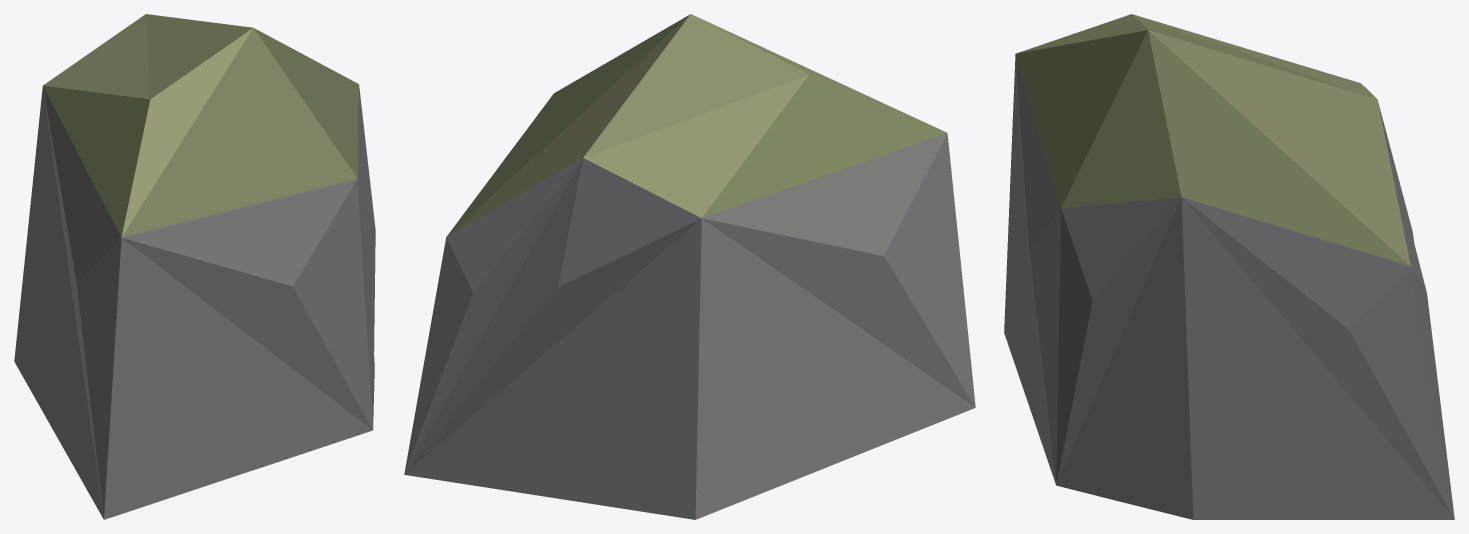
File: cliff_shadow_buttress.glb
3 views of the same model, side by side, from view 1: azimuth 30°, elevation 25°; view 2: azimuth 150°, elevation 25°; view 3: azimuth 270°, elevation 25° (orthographic). The views are drawn at different scales.
Visible parts, largest first — view 1: cliff_shadow_buttress; view 2: cliff_shadow_buttress; view 3: cliff_shadow_buttress.
Part boxes in pixels (bbox=[...]): cliff_shadow_buttress: bbox=[14, 14, 375, 519]; cliff_shadow_buttress: bbox=[404, 14, 975, 519]; cliff_shadow_buttress: bbox=[1004, 14, 1454, 519].
Bounding box in the file's own units: 57.91 × 60 × 58.95.
